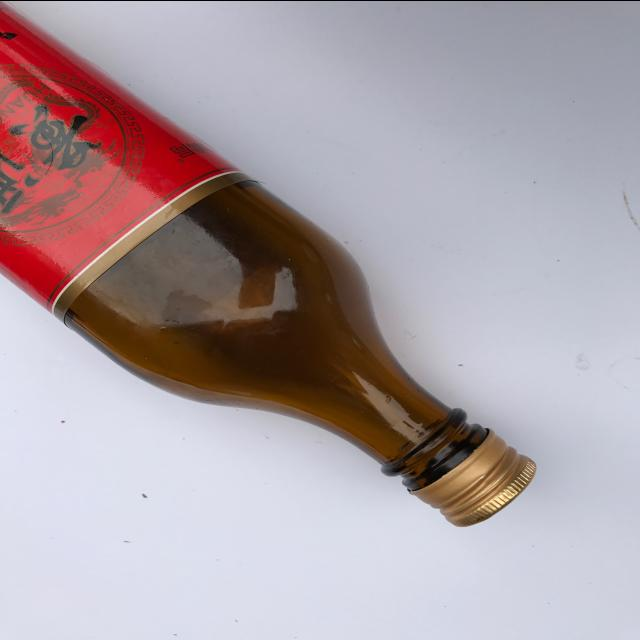glass: (0, 7, 549, 529)
